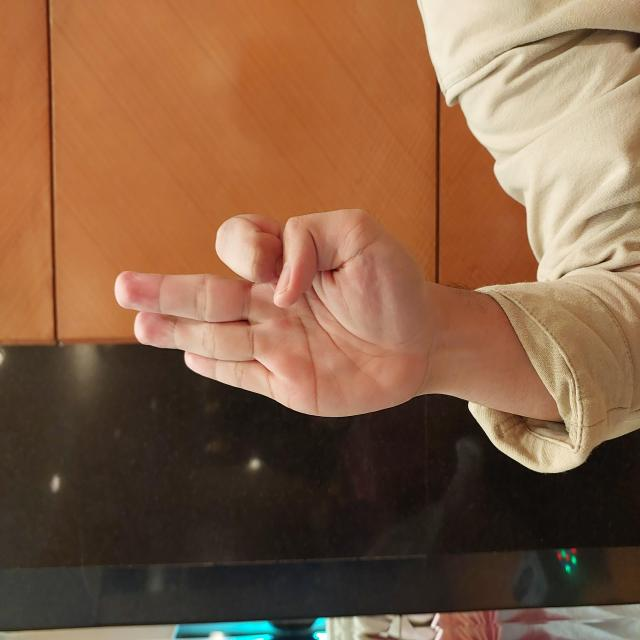F: (222, 112, 434, 433)
